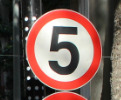speed_limit_5: (26, 9, 102, 90)
